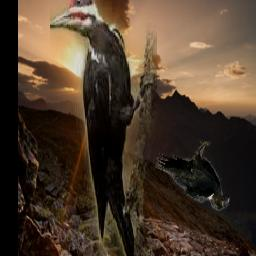Crow: (155, 140, 231, 212)
Woodpecker: (49, 0, 156, 256)
